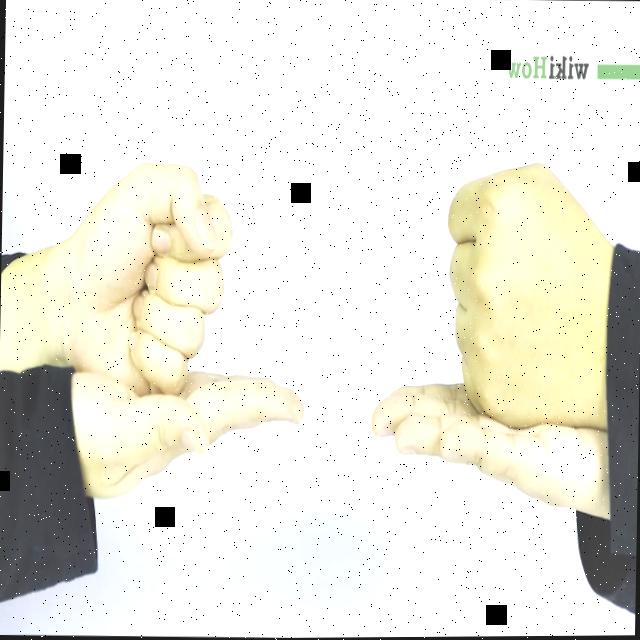Rock: (442, 157, 612, 429), (58, 154, 234, 397)
